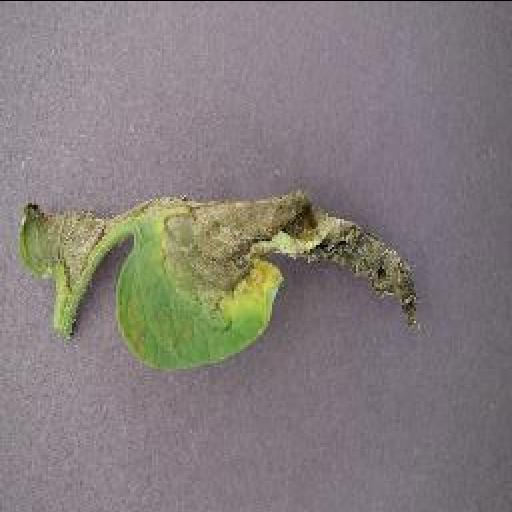disease_tomato: (109, 180, 435, 378)
